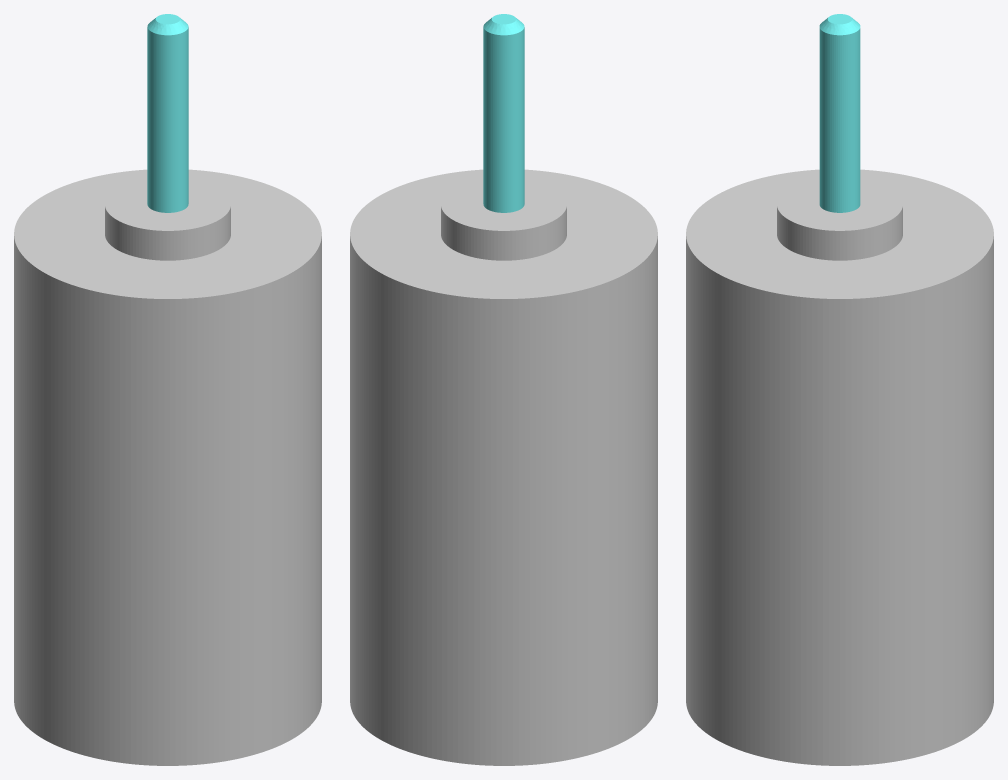
3 views of the same model, side by side, from view 1: azimuth 30°, elevation 25°; view 2: azimuth 150°, elevation 25°; view 3: azimuth 270°, elevation 25° (orthographic).
Parts seen in each view (by area): view 1: out-body, out-shaft; view 2: out-body, out-shaft; view 3: out-body, out-shaft.
Boxes of the visible parts, x1,y1,x2,y2 form: out-body: (14, 169, 321, 765); out-shaft: (147, 14, 188, 212); out-body: (350, 169, 657, 765); out-shaft: (483, 14, 524, 212); out-body: (686, 169, 993, 765); out-shaft: (819, 14, 860, 212).
Bounding box in the file's own units: 0.015 × 0.0383 × 0.015.
